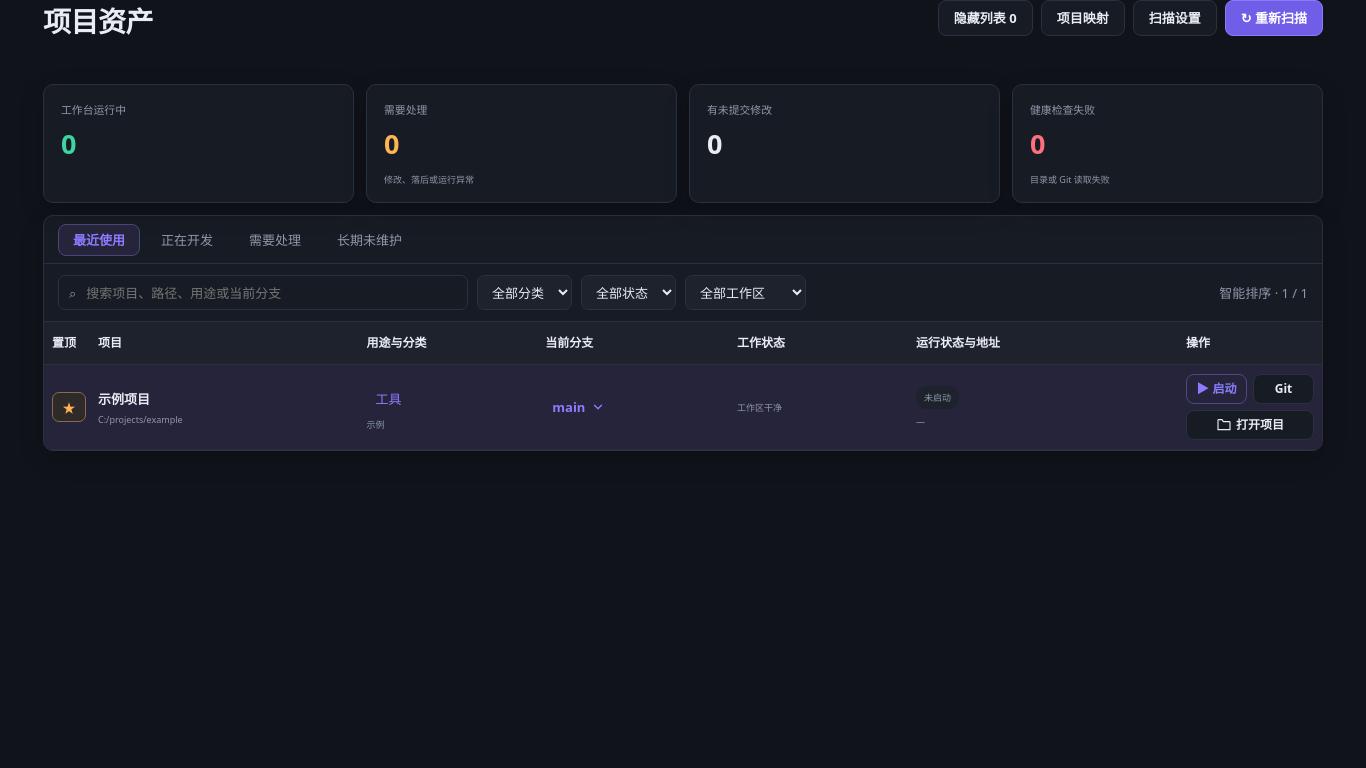
项目资产列表操作 › 远程更新失败仍保留本地分支选择并明确提示
This screenshot has width=1366, height=768.
Click the button with class "branch-picker-trigger". click: [579, 407]
box: [545, 390, 612, 424]
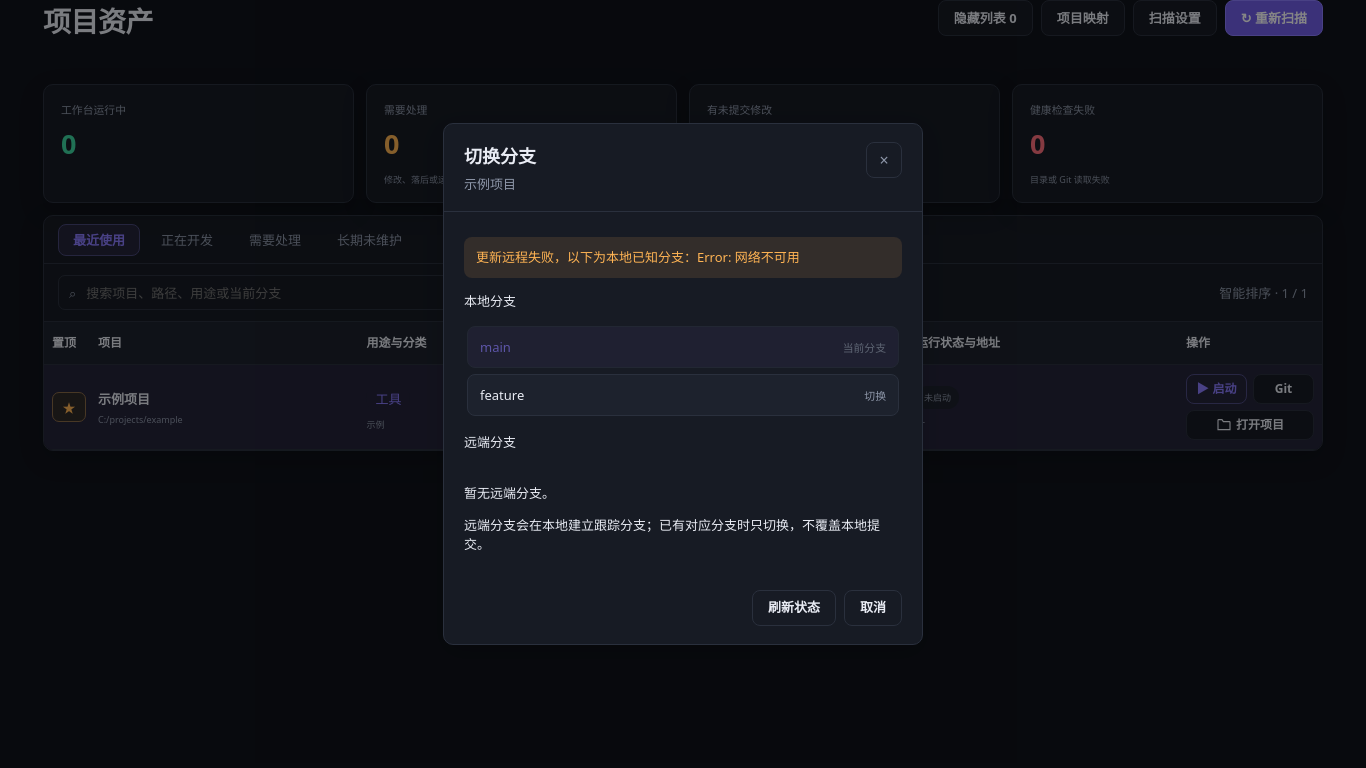
Expected: the message "更新远程失败，以下为本地已知分支：Error: 网络不可用" is shown, [464, 237, 902, 278]
Expected: the button with class "branch-option" showing "feature 切换" is enabled, [467, 374, 899, 416]
